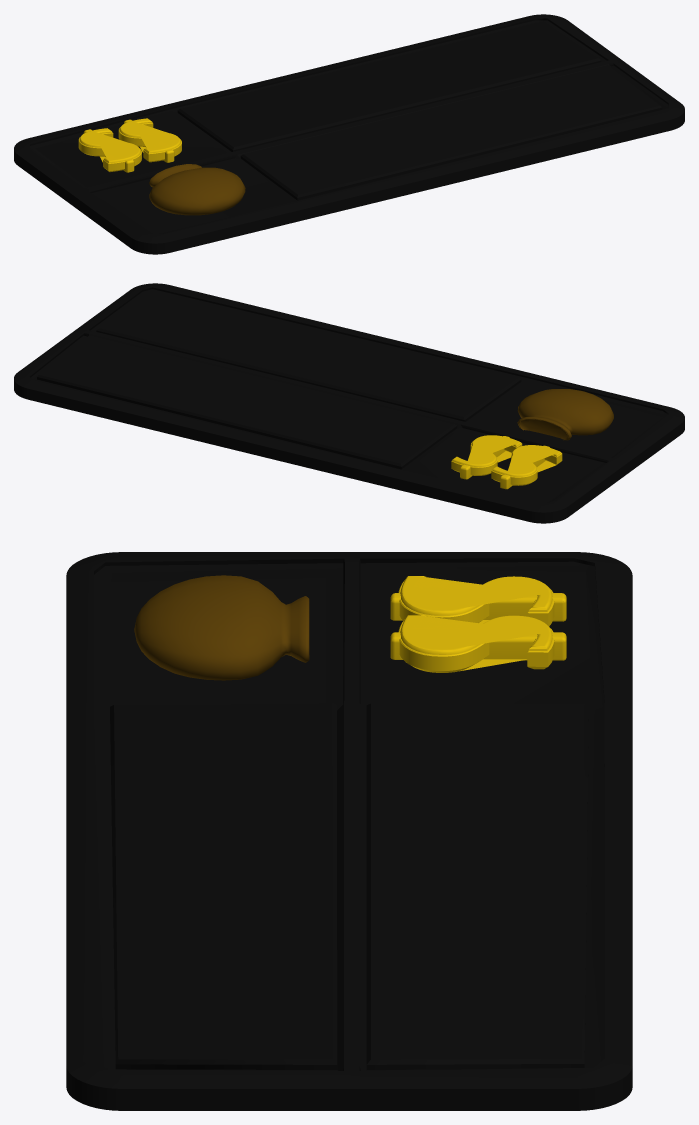
File: Stats.fbx
3 views of the same model, one above another, from view 1: azimuth 30°, elevation 25°; view 2: azimuth 150°, elevation 25°; view 3: azimuth 270°, elevation 25° (orthographic). The views are drawn at different scales.
Parts seen in each view (by area): view 1: Stats, Pot, Dollar; view 2: Stats, Pot, Dollar; view 3: Stats, Dollar, Pot.
Boxes of the visible parts, left/top/right/bottom form: Stats: left=14, top=14, right=684, bottom=254; Pot: left=149, top=164, right=245, bottom=215; Dollar: left=78, top=118, right=181, bottom=172; Stats: left=14, top=283, right=684, bottom=523; Pot: left=517, top=389, right=613, bottom=440; Dollar: left=451, top=435, right=562, bottom=489; Stats: left=66, top=552, right=632, bottom=1110; Dollar: left=390, top=576, right=566, bottom=672; Pot: left=134, top=575, right=309, bottom=680.
Size of the model in its own units: 2.24 by 0.1343 by 1.
